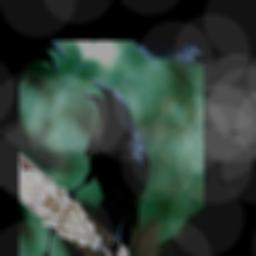Crow: (32, 70, 185, 256)
